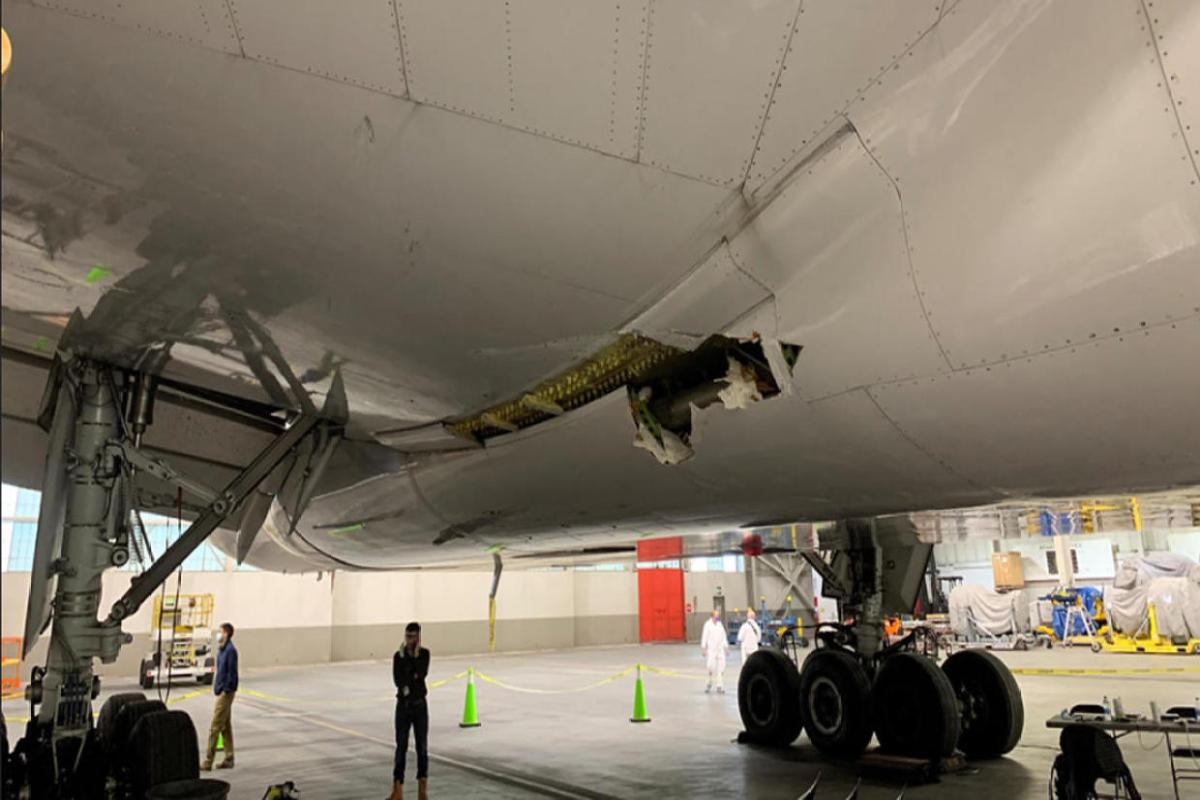Fuselage_damage: (425, 266, 832, 503)
